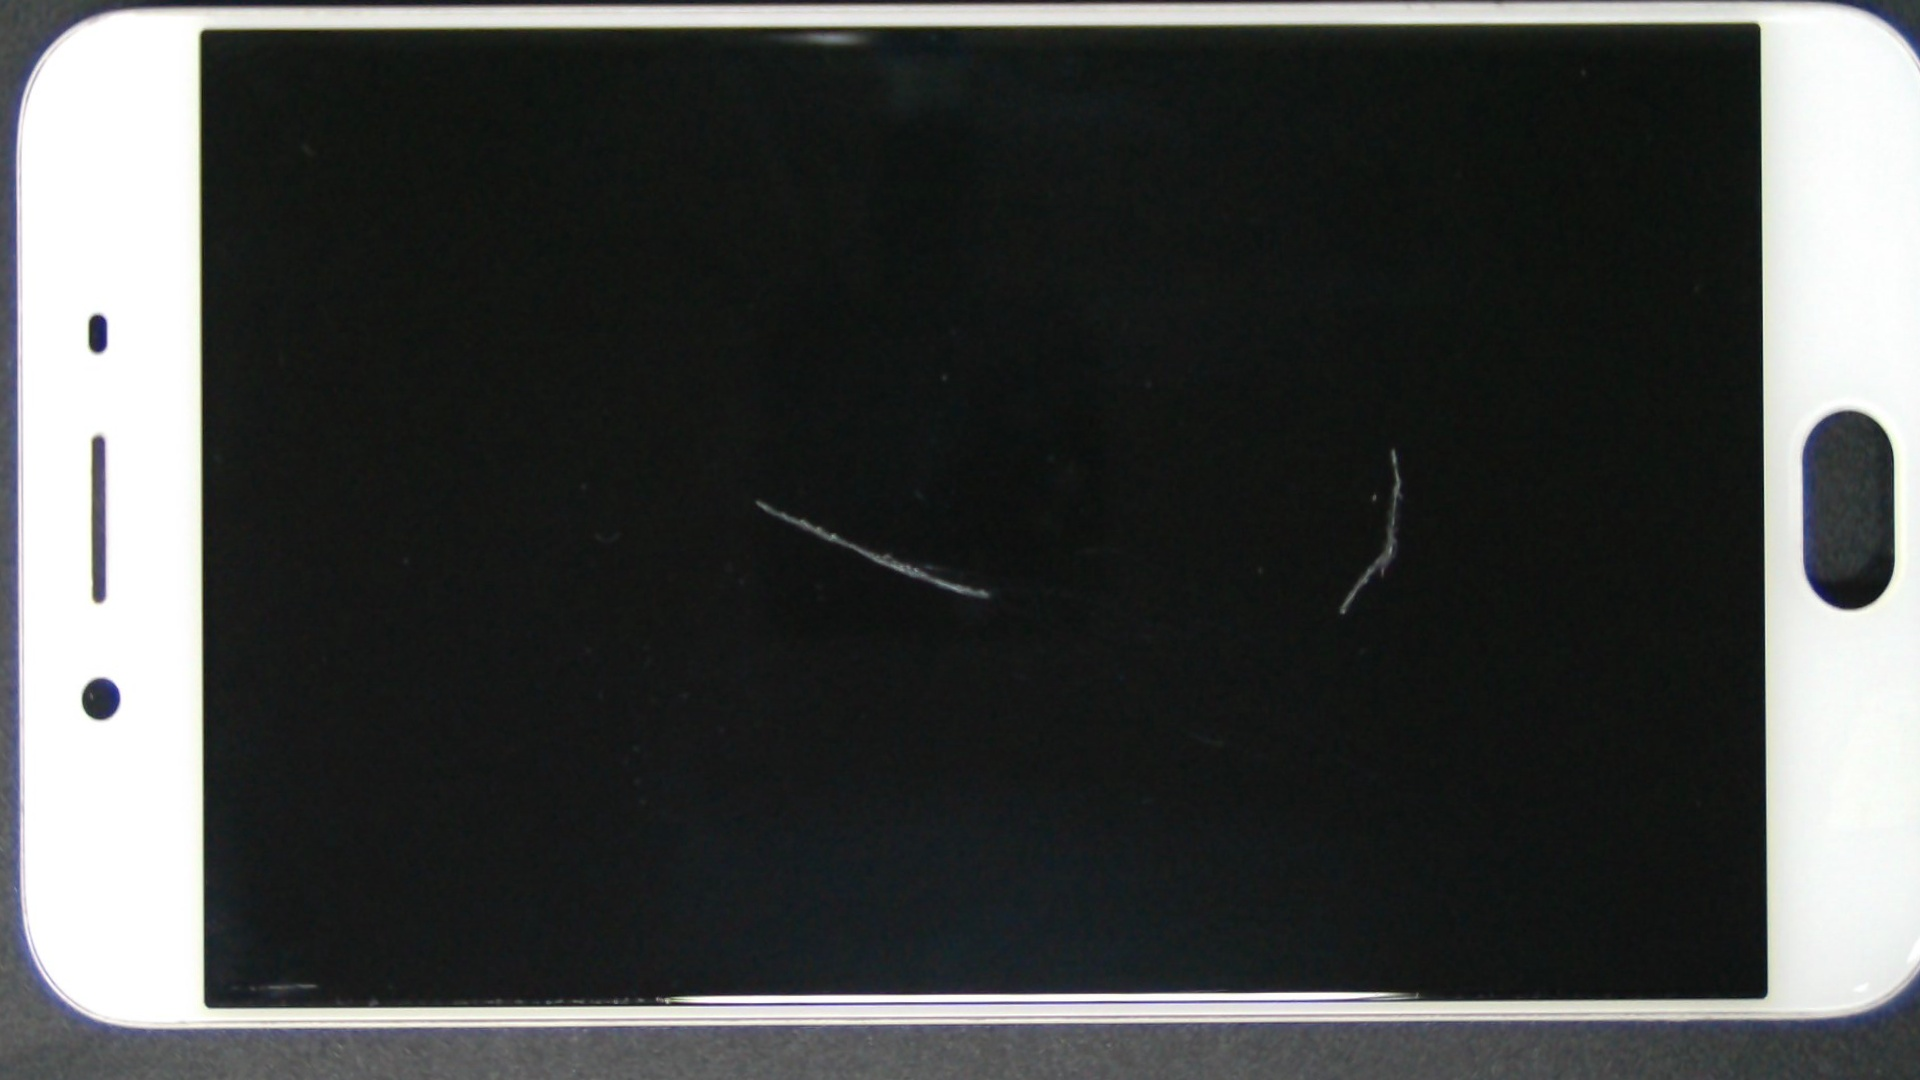oil: (662, 185, 1920, 802), (671, 162, 1920, 735), (352, 190, 1160, 810)
